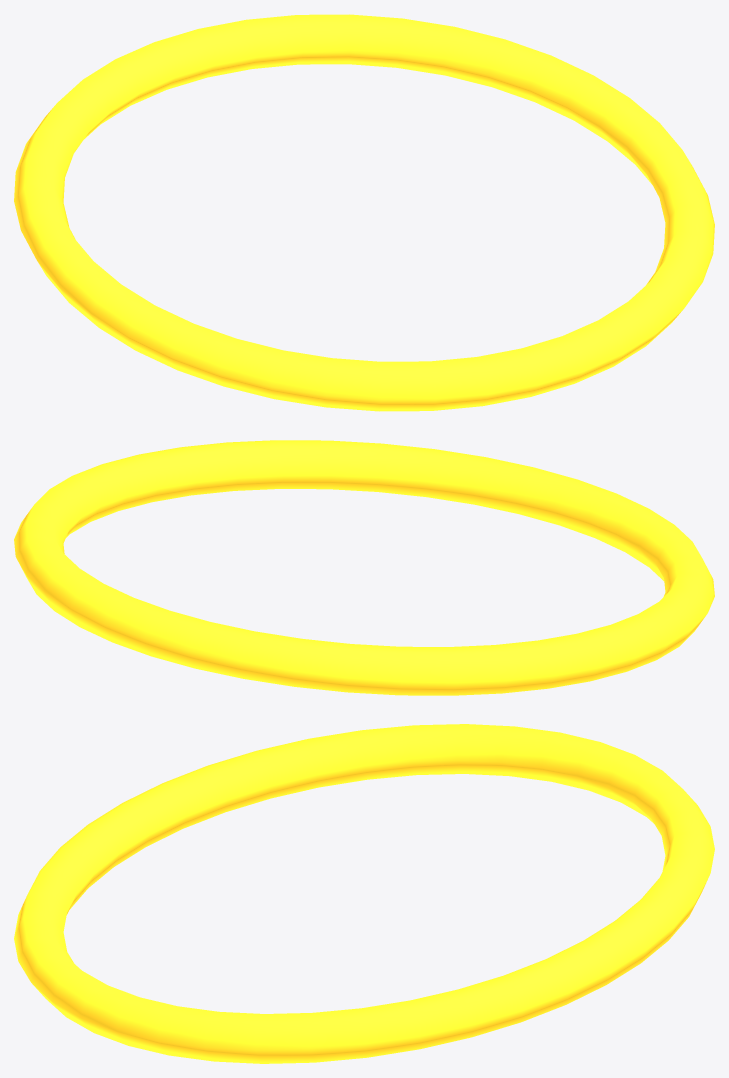
Rendered from head_halo.glb.
3 views of the same model, one above another, from view 1: azimuth 30°, elevation 25°; view 2: azimuth 150°, elevation 25°; view 3: azimuth 270°, elevation 25° (orthographic).
Visible parts, largest first — view 1: head_halo_q; view 2: head_halo_q; view 3: head_halo_q.
Part boxes in pixels (<box>): head_halo_q: <box>14,14,714,411</box>; head_halo_q: <box>14,440,714,695</box>; head_halo_q: <box>14,724,714,1063</box>.
Bounding box in the file's own units: 1.98 × 0.3859 × 1.96.
